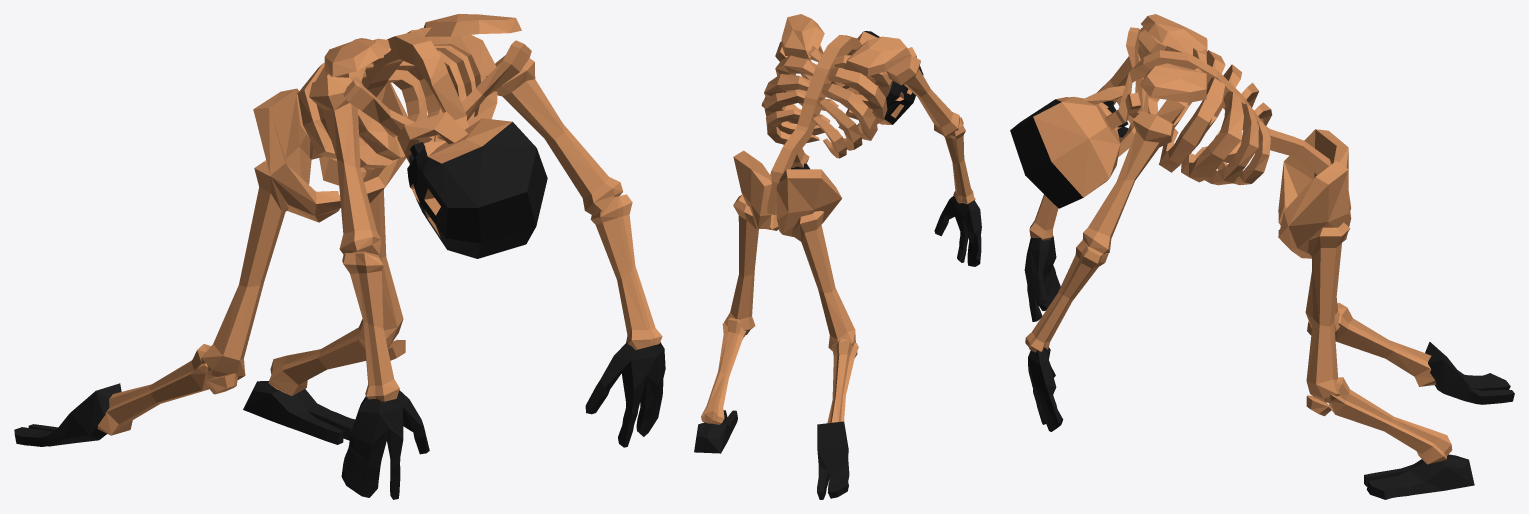
File: SM_Prop_Skeleton_Chest_01.glb
3 views of the same model, side by side, from view 1: azimuth 30°, elevation 25°; view 2: azimuth 150°, elevation 25°; view 3: azimuth 270°, elevation 25° (orthographic). The views are drawn at different scales.
Visible parts, largest first — view 1: SM_Prop_Skeleton_Chest_01_00; view 2: SM_Prop_Skeleton_Chest_01_00; view 3: SM_Prop_Skeleton_Chest_01_00.
Part boxes in pixels (x1,y1,x2,y2): SM_Prop_Skeleton_Chest_01_00: (14, 14, 665, 499); SM_Prop_Skeleton_Chest_01_00: (694, 14, 981, 499); SM_Prop_Skeleton_Chest_01_00: (1010, 14, 1514, 499).
Bounding box in the file's own units: 0.874 × 1.13 × 1.21.
Materials: 1 (1 with a texture image).
